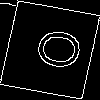O: (25, 25, 84, 73)
